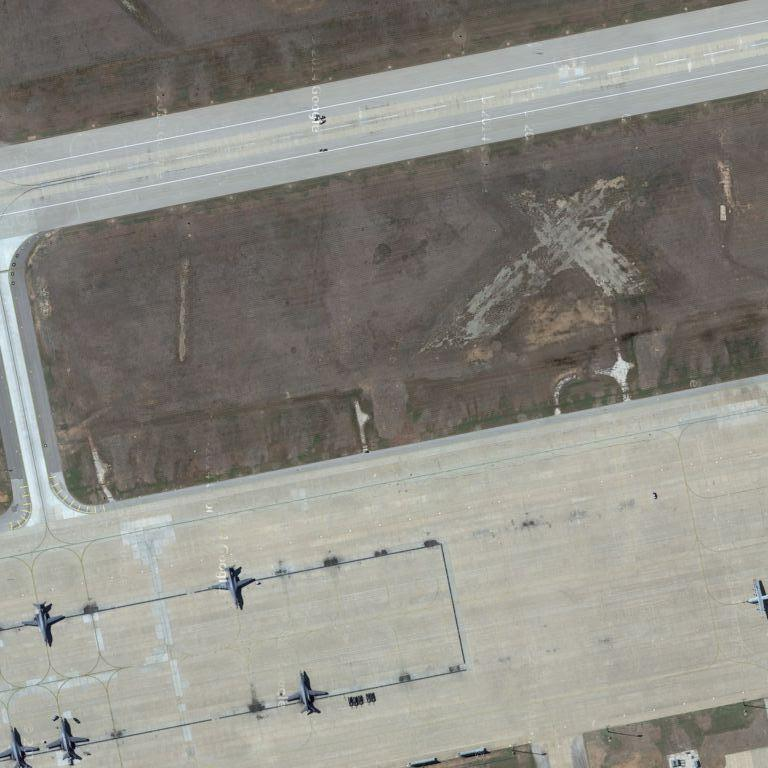B-1B: (24, 594, 70, 653), (282, 669, 331, 722), (211, 560, 259, 614), (45, 712, 92, 765), (1, 727, 39, 768)
C-130: (745, 577, 766, 621)
